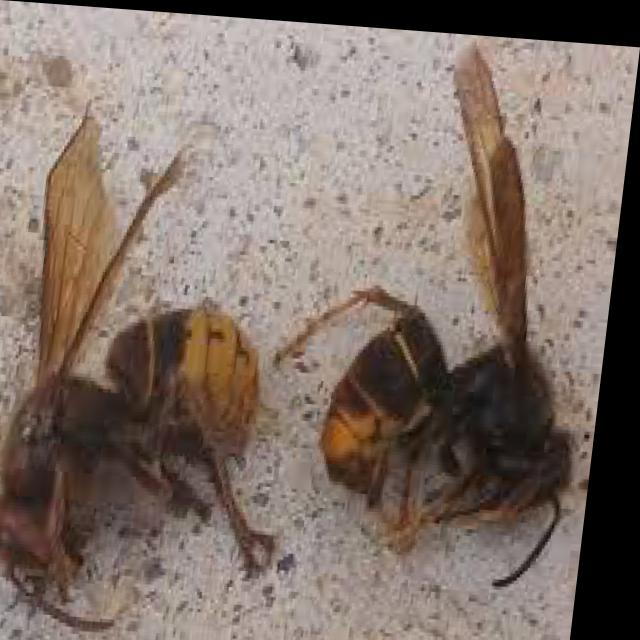Vespa Velutina: (258, 18, 638, 602), (0, 61, 339, 639)
